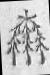F31: (3, 0, 48, 74)
